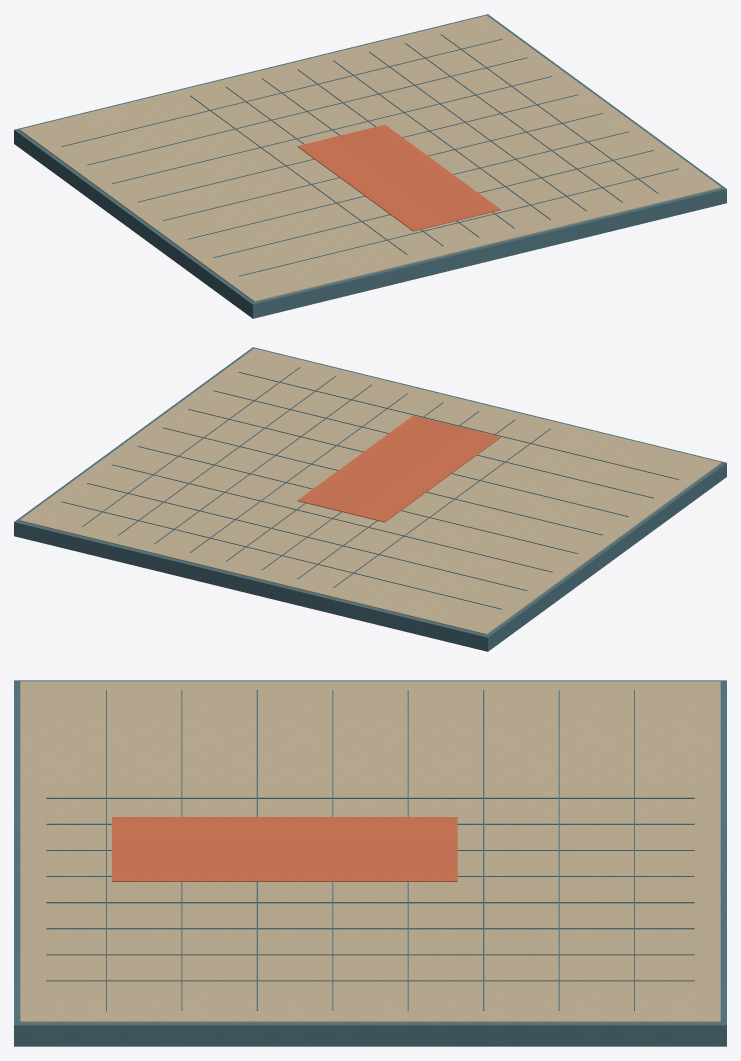
Rendered from atlas100-s042-a07.lod1.glb.
The picture shows the model from 3 angles, top to bottom: view 1: azimuth 30°, elevation 25°; view 2: azimuth 150°, elevation 25°; view 3: azimuth 270°, elevation 25°; orthographic projection. The views are drawn at different scales.
Visible parts, largest first — view 1: atlas100-s042-a07:part-001, atlas100-s042-a07:part-000, atlas100-s042-a07:part-021, atlas100-s042-a07:part-020, atlas100-s042-a07:part-013, atlas100-s042-a07:part-014, atlas100-s042-a07:part-015, atlas100-s042-a07:part-019, atlas100-s042-a07:part-018, atlas100-s042-a07:part-017, atlas100-s042-a07:part-016; view 2: atlas100-s042-a07:part-001, atlas100-s042-a07:part-000, atlas100-s042-a07:part-021, atlas100-s042-a07:part-015, atlas100-s042-a07:part-013, atlas100-s042-a07:part-014, atlas100-s042-a07:part-020, atlas100-s042-a07:part-016, atlas100-s042-a07:part-018, atlas100-s042-a07:part-017, atlas100-s042-a07:part-019; view 3: atlas100-s042-a07:part-001, atlas100-s042-a07:part-000, atlas100-s042-a07:part-021, atlas100-s042-a07:part-005, atlas100-s042-a07:part-009, atlas100-s042-a07:part-010, atlas100-s042-a07:part-011, atlas100-s042-a07:part-012, atlas100-s042-a07:part-014, atlas100-s042-a07:part-015, atlas100-s042-a07:part-006.
Boxes of the visible parts, x1,y1,x2,y2 form: atlas100-s042-a07:part-001: [19, 15, 721, 301]; atlas100-s042-a07:part-000: [14, 14, 726, 318]; atlas100-s042-a07:part-021: [297, 124, 500, 231]; atlas100-s042-a07:part-020: [239, 168, 678, 276]; atlas100-s042-a07:part-013: [62, 39, 502, 146]; atlas100-s042-a07:part-014: [87, 57, 527, 165]; atlas100-s042-a07:part-015: [112, 76, 552, 183]; atlas100-s042-a07:part-019: [213, 150, 653, 257]; atlas100-s042-a07:part-018: [188, 131, 628, 239]; atlas100-s042-a07:part-017: [163, 113, 603, 220]; atlas100-s042-a07:part-016: [138, 94, 577, 202]; atlas100-s042-a07:part-001: [19, 348, 721, 634]; atlas100-s042-a07:part-000: [14, 347, 726, 651]; atlas100-s042-a07:part-021: [297, 415, 500, 522]; atlas100-s042-a07:part-015: [112, 464, 552, 572]; atlas100-s042-a07:part-013: [62, 501, 501, 609]; atlas100-s042-a07:part-014: [87, 483, 527, 590]; atlas100-s042-a07:part-020: [238, 372, 678, 479]; atlas100-s042-a07:part-016: [137, 446, 577, 553]; atlas100-s042-a07:part-018: [188, 409, 628, 516]; atlas100-s042-a07:part-017: [163, 427, 602, 535]; atlas100-s042-a07:part-019: [213, 390, 653, 498]; atlas100-s042-a07:part-001: [20, 681, 720, 1022]; atlas100-s042-a07:part-000: [14, 680, 726, 1046]; atlas100-s042-a07:part-021: [112, 817, 457, 881]; atlas100-s042-a07:part-005: [46, 797, 694, 798]; atlas100-s042-a07:part-009: [46, 902, 694, 903]; atlas100-s042-a07:part-010: [46, 928, 694, 929]; atlas100-s042-a07:part-011: [46, 954, 694, 955]; atlas100-s042-a07:part-012: [46, 980, 694, 981]; atlas100-s042-a07:part-014: [558, 690, 559, 1010]; atlas100-s042-a07:part-015: [483, 690, 484, 1010]; atlas100-s042-a07:part-006: [46, 823, 694, 824].
Bounding box in the file's own units: 11.9 × 0.404 × 10.4.
3 materials, 3 textured.
